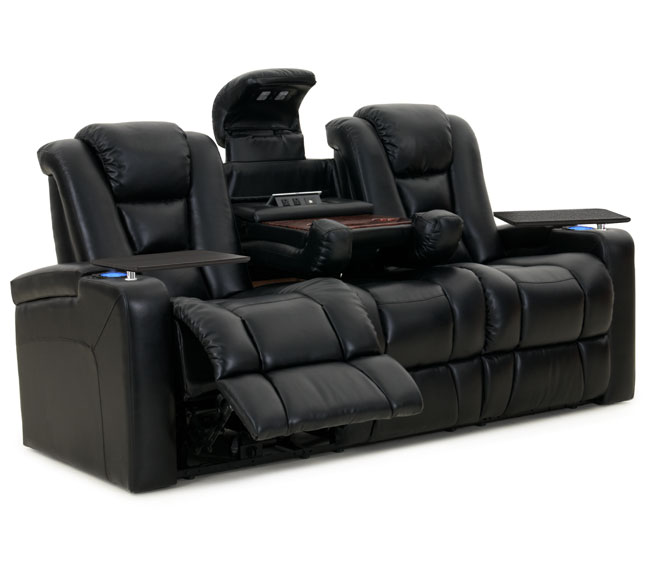chairs: (10, 66, 641, 500)
